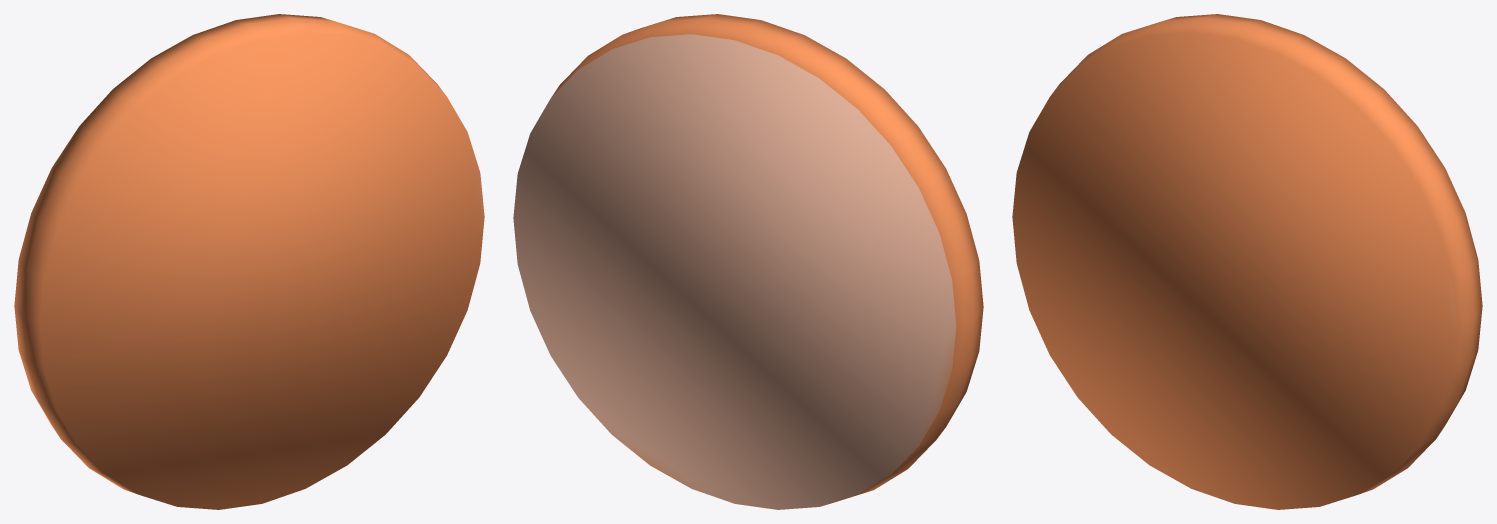
File: PanInferior.fbx
3 views of the same model, side by side, from view 1: azimuth 30°, elevation 25°; view 2: azimuth 150°, elevation 25°; view 3: azimuth 330°, elevation 25° (orthographic).
Parts seen in each view (by area): view 1: Pan_Inferior; view 2: Pan_Inferior; view 3: Pan_Inferior.
Part boxes in pixels (<box>): Pan_Inferior: <box>14,14,484,509</box>; Pan_Inferior: <box>513,14,983,509</box>; Pan_Inferior: <box>1012,14,1482,509</box>.
Size of the model in its own units: 71.65 by 71.65 by 7.24.
